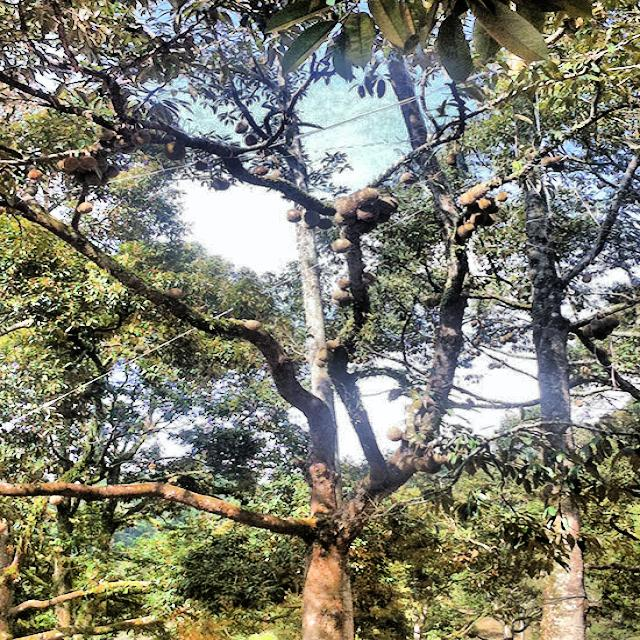arvore: (289, 354, 377, 640)
